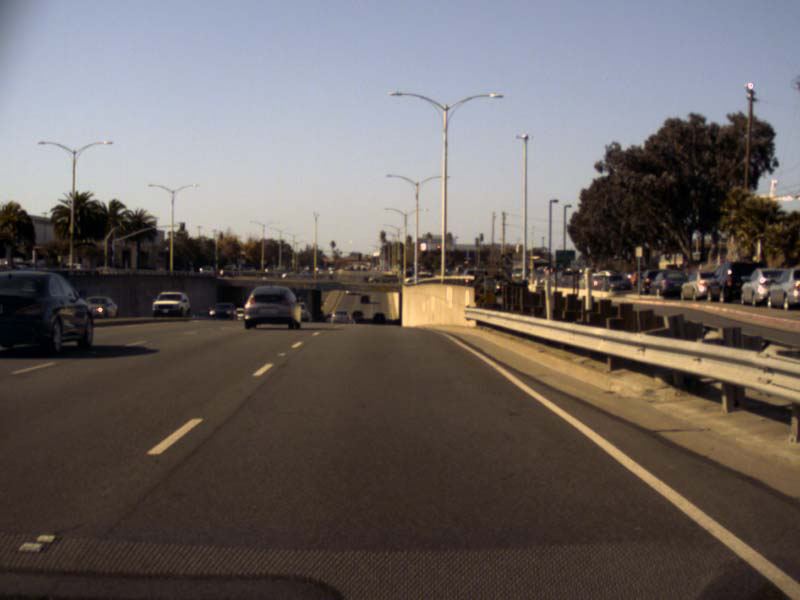Red: (435, 244, 441, 255)
